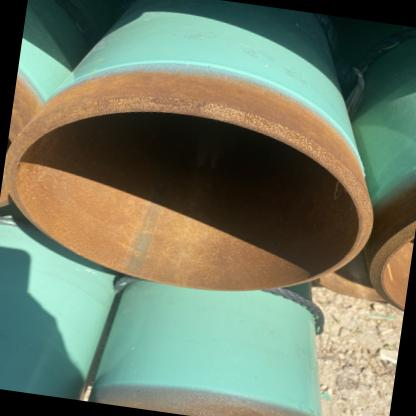clean: (140, 68, 237, 138)
